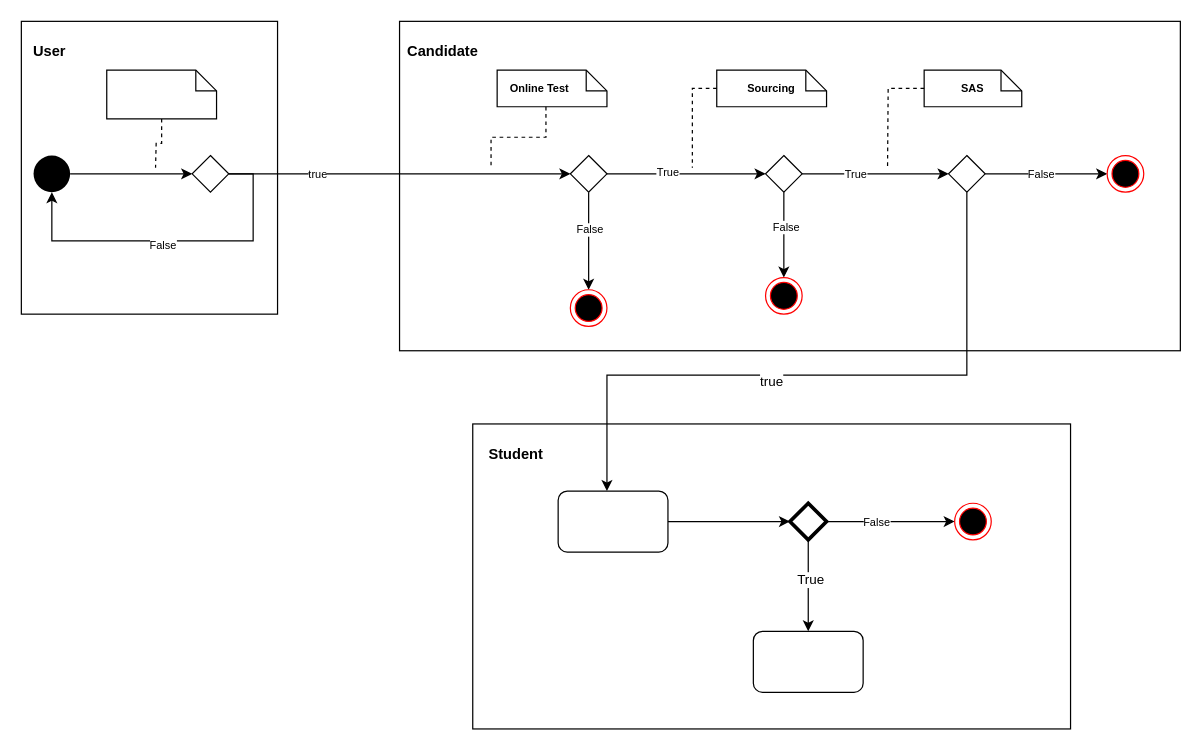
Image size: 1202x750. Some labels were removed from this diagram. Each missing label, with the centre of its shape:
Passage from second year: (x=807, y=661)
Registration: (x=161, y=94)
Started the first Year: (x=612, y=521)
